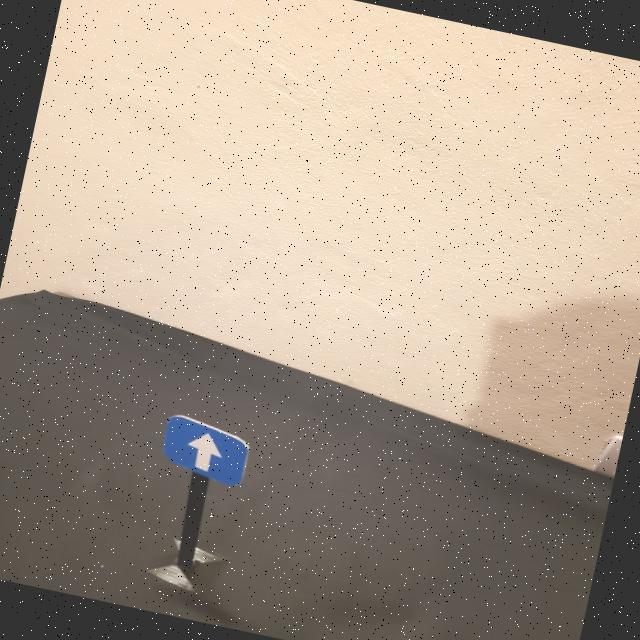one_way: (154, 412, 254, 491)
